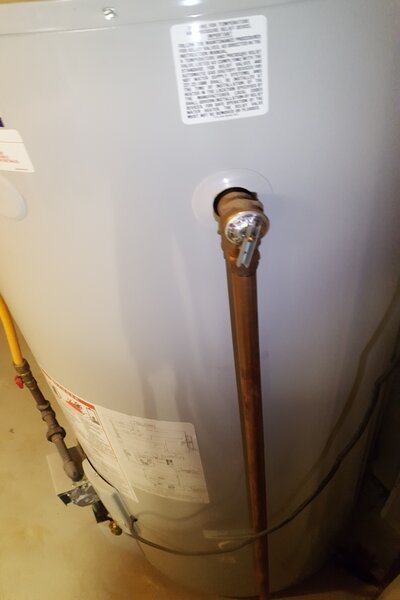valve: (213, 186, 271, 279)
